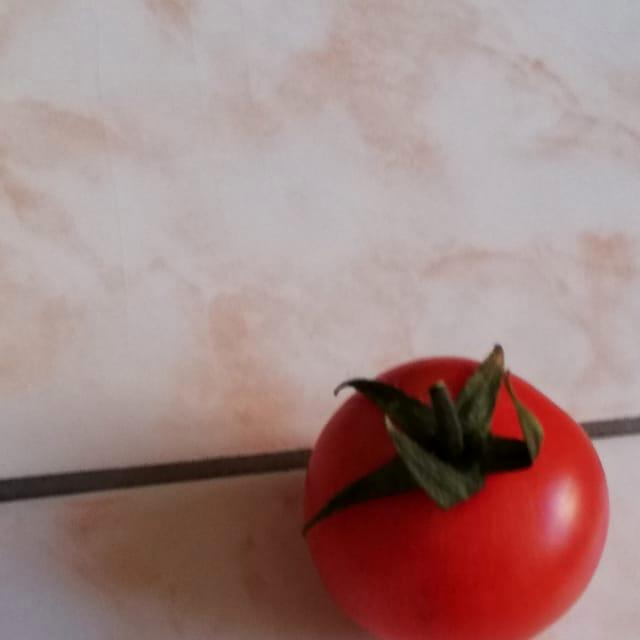tomato: (278, 316, 628, 640)
